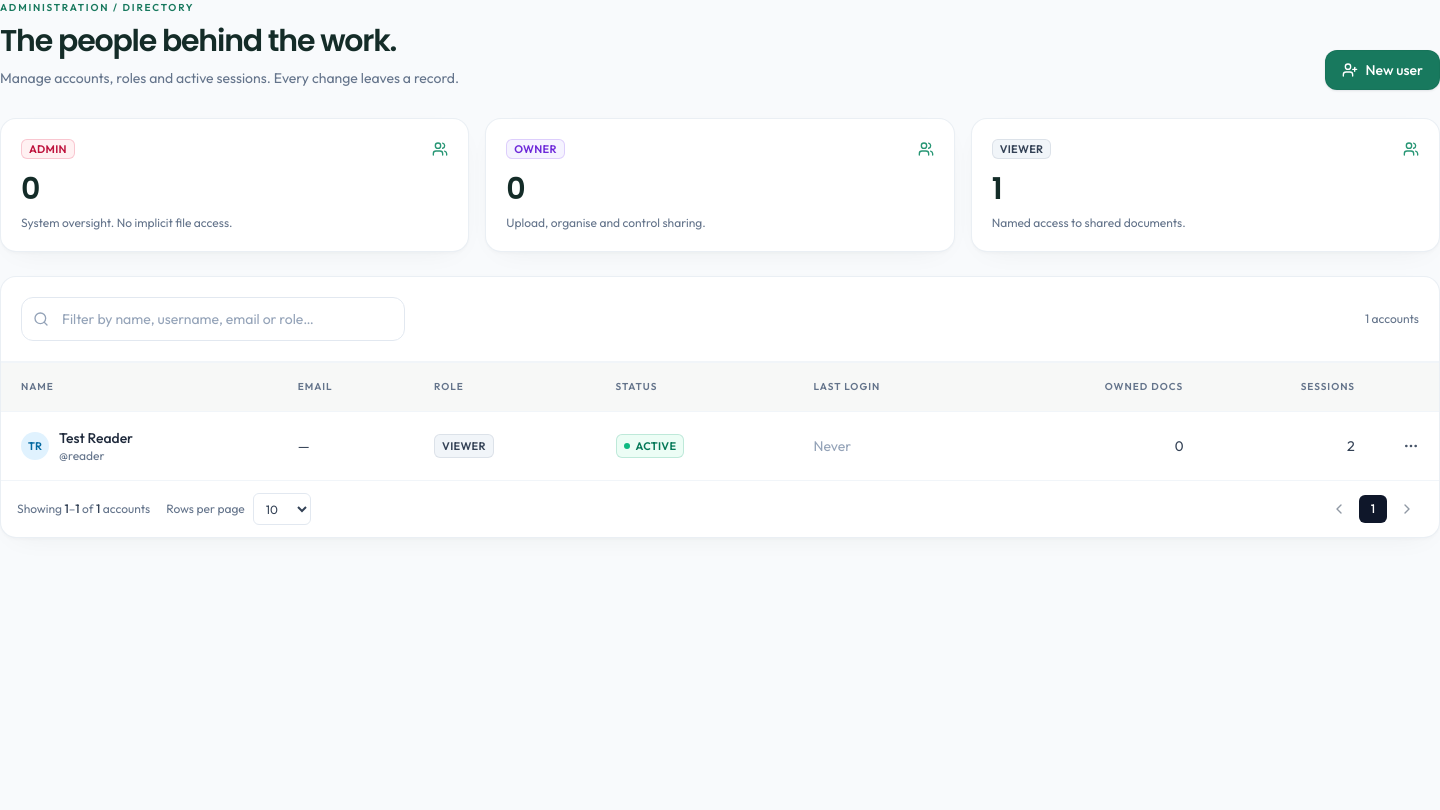
Test: administration workspace › offers Delete only inside the Actions menu and requires confirmation before removing the account
This screenshot has width=1440, height=810.
Click the button named "Actions for reader": (1411, 446) [1395,430,1427,462]
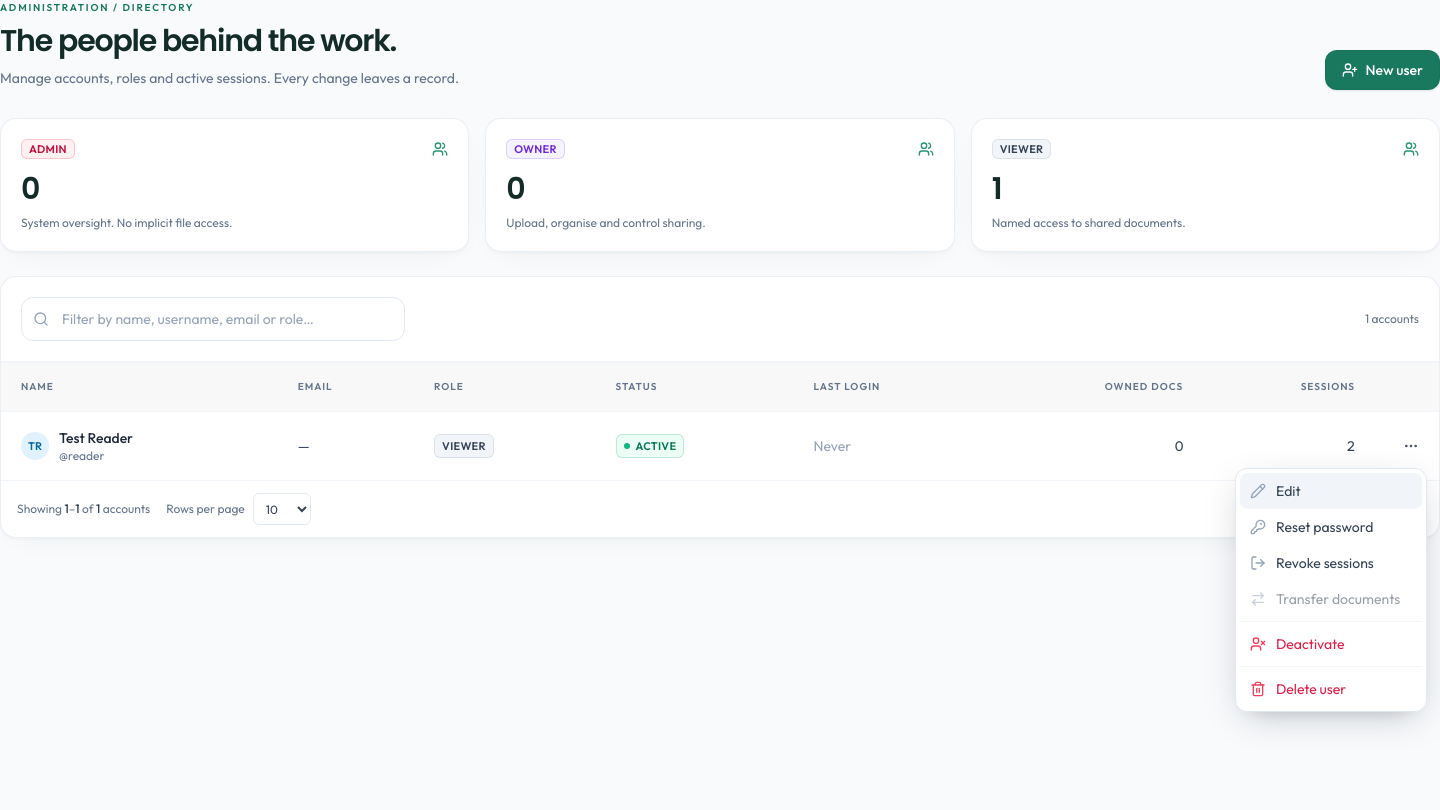
Click the menu item "Delete user": (1331, 689) [1240,671,1422,707]
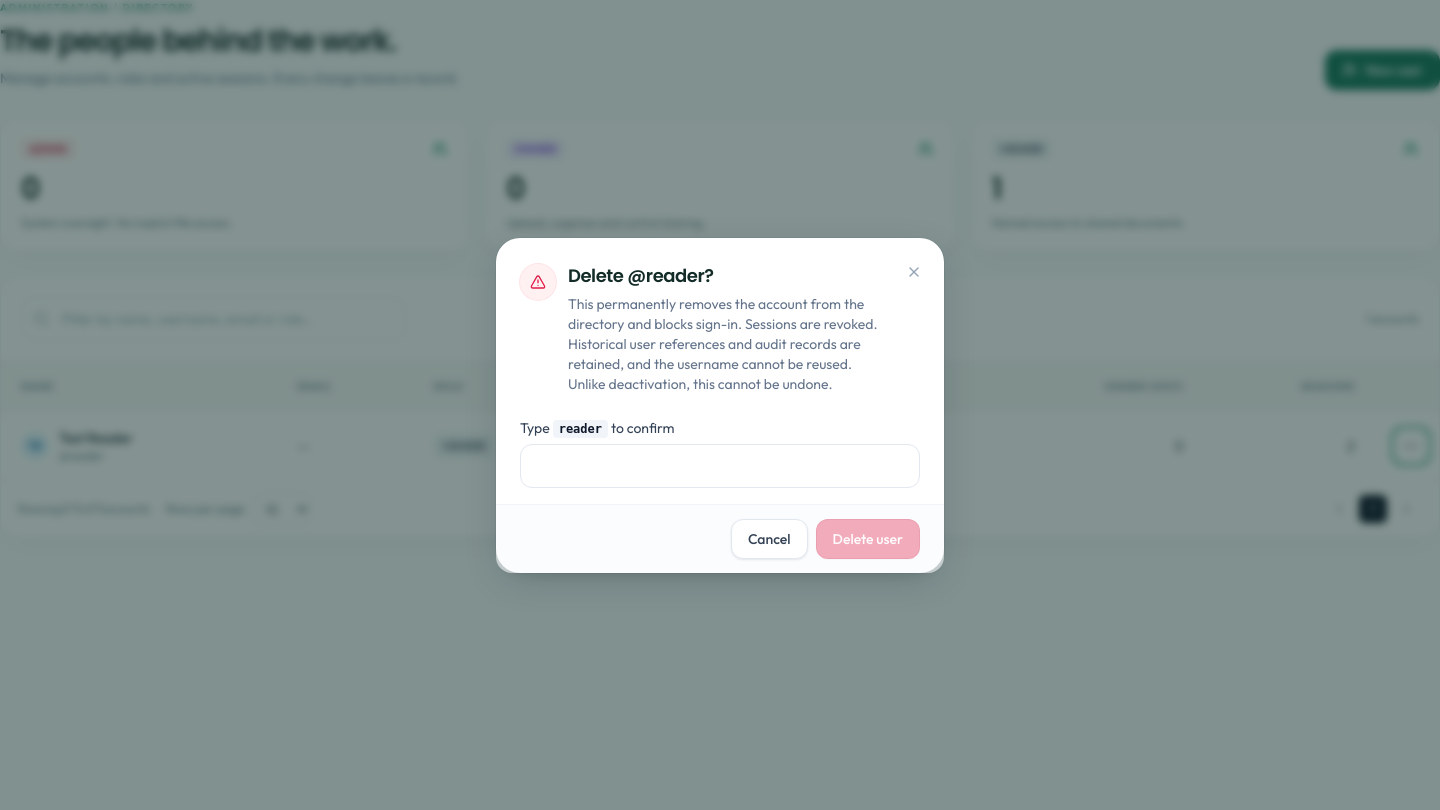
expect the text "Unlike deactivation, this cannot be undone" is shown: met, box [568,294,878,392]
In the field labelled "Type reader to confirm": (720, 466) [520,444,920,488], type "reader"
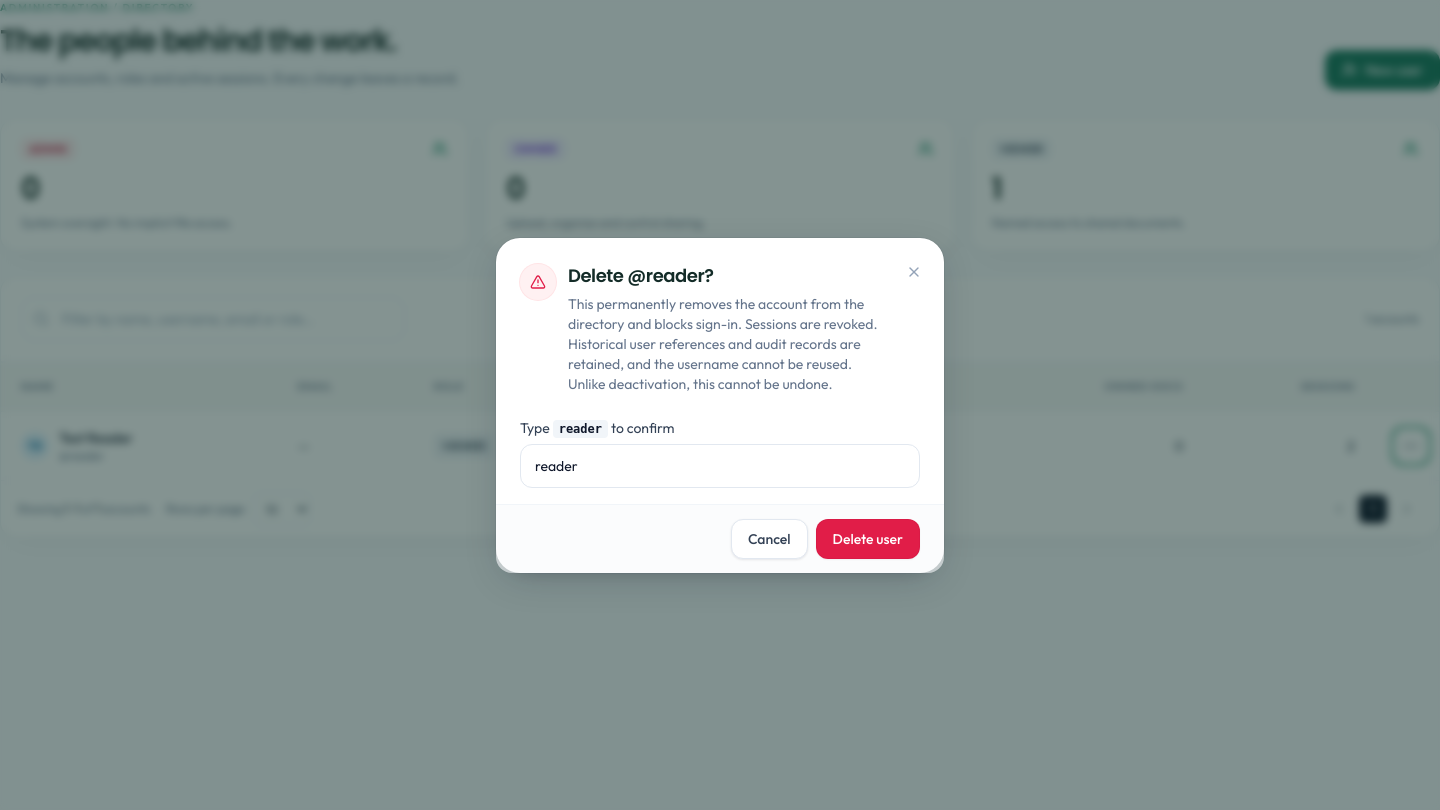
Click the button "Delete user": (868, 538) [816,518,920,558]
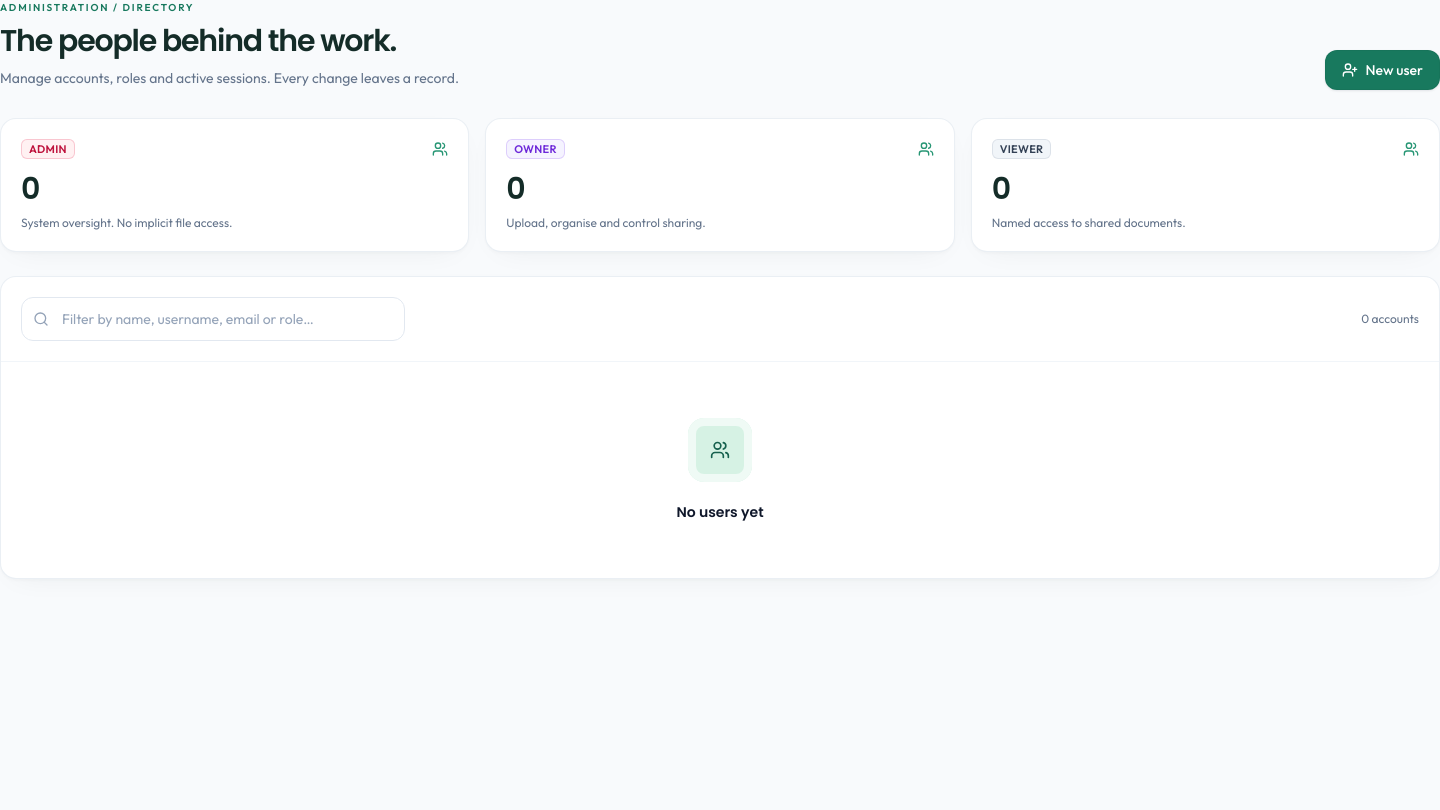
expect the text "Test Reader" is gone: met
